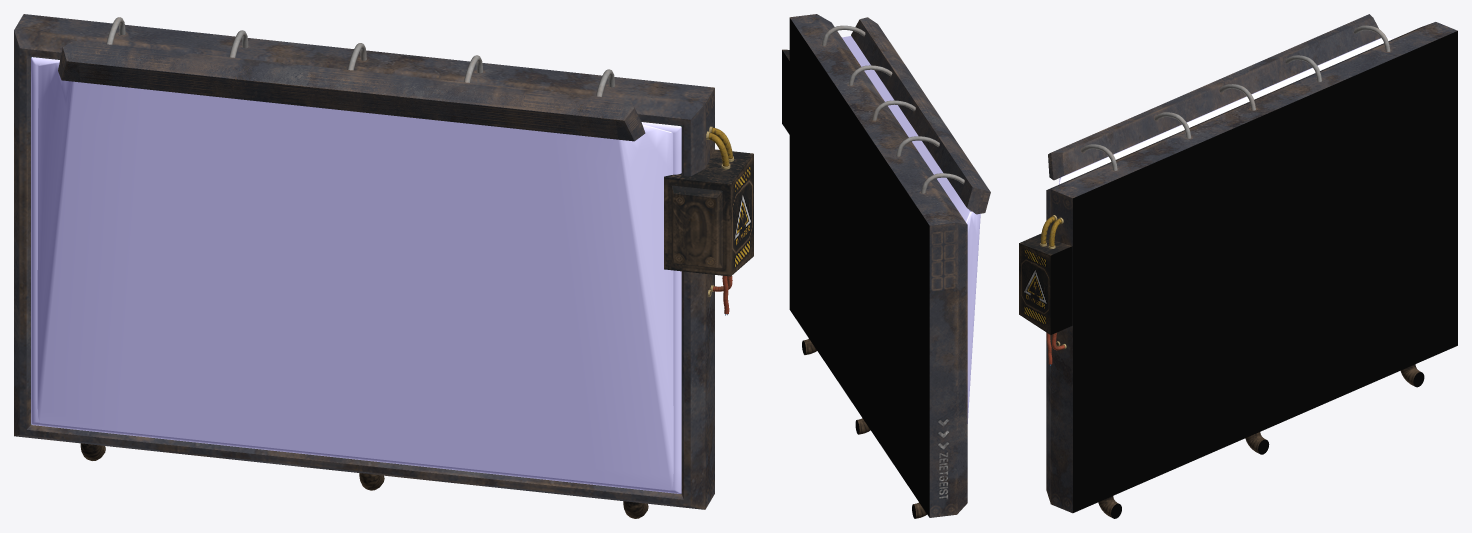
The picture shows the model from 3 angles, left to right: view 1: azimuth 30°, elevation 25°; view 2: azimuth 150°, elevation 25°; view 3: azimuth 270°, elevation 25°; orthographic projection. The views are drawn at different scales.
Parts seen in each view (by area): view 1: screen projection_Material #41_0, billboard_Material #40_0; view 2: billboard_Material #40_0, screen projection_Material #41_0; view 3: billboard_Material #40_0, screen projection_Material #41_0.
Part boxes in pixels (x1,y1,x2,y2): screen projection_Material #41_0: (31, 57, 681, 493); billboard_Material #40_0: (14, 14, 753, 518); billboard_Material #40_0: (782, 14, 990, 518); screen projection_Material #41_0: (842, 36, 980, 423); billboard_Material #40_0: (1019, 14, 1457, 518); screen projection_Material #41_0: (1059, 36, 1393, 184).
Bounding box in the file's own units: 3.03 × 2.68 × 2.99.
2 materials, 2 textured.
